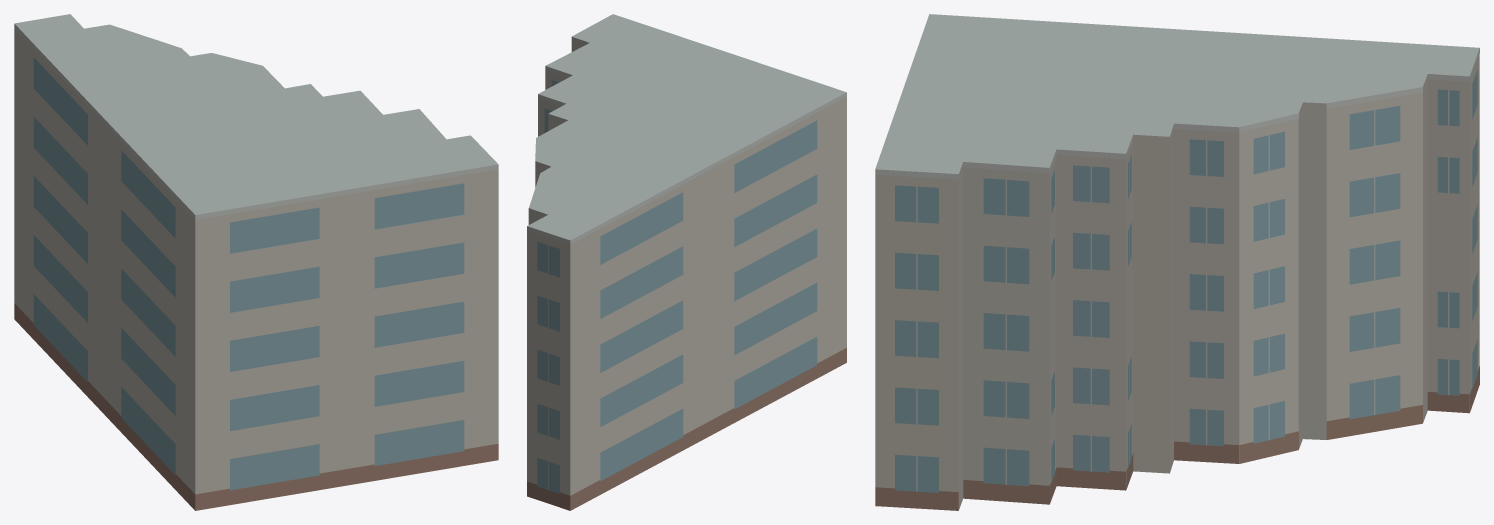
File: survey-upis-32710794.glb
3 views of the same model, side by side, from view 1: azimuth 30°, elevation 25°; view 2: azimuth 150°, elevation 25°; view 3: azimuth 270°, elevation 25° (orthographic). The views are drawn at different scales.
Visible parts, largest first — view 1: survey-upis-32710794.tmp; view 2: survey-upis-32710794.tmp; view 3: survey-upis-32710794.tmp.
Boxes of the visible parts, x1,y1,x2,y2 form: survey-upis-32710794.tmp: (14,14,498,510); survey-upis-32710794.tmp: (527,14,846,510); survey-upis-32710794.tmp: (875,14,1479,510).
Size of the model in its own units: 15.57 by 15.25 by 24.83.
